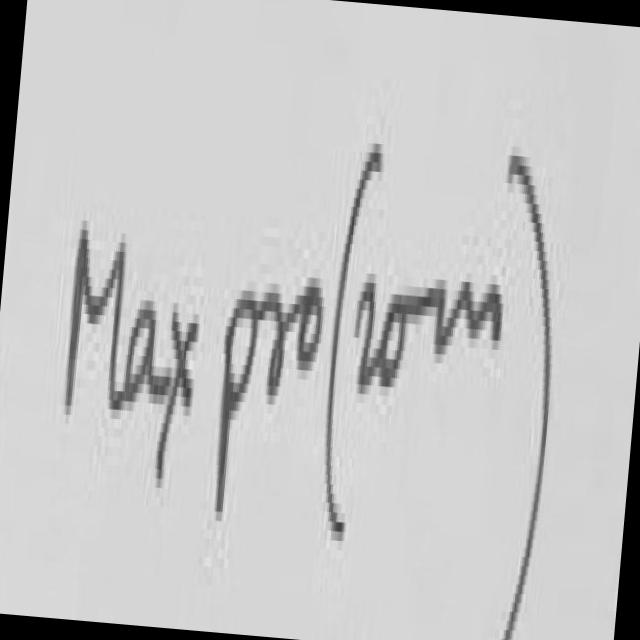0: (378, 294, 403, 393)
2: (356, 282, 377, 389)
M: (62, 218, 128, 418)
a: (124, 300, 171, 407)
m: (425, 277, 500, 350)
o: (298, 286, 323, 366)
p: (216, 291, 255, 507)
r: (258, 284, 304, 391)
x: (160, 301, 198, 474)
